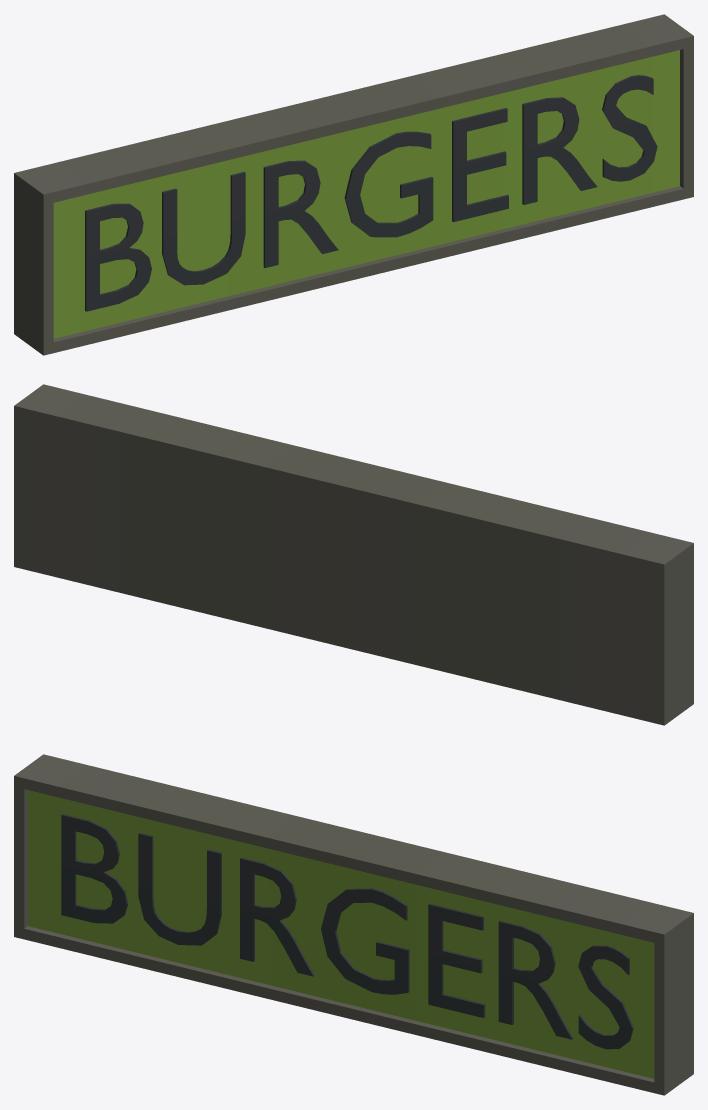
The model's file is Banner_09.fbx.
3 renders of one model, top to bottom at view 1: azimuth 30°, elevation 25°; view 2: azimuth 150°, elevation 25°; view 3: azimuth 330°, elevation 25°, orthographic.
Parts seen in each view (by area): view 1: Banner_09; view 2: Banner_09; view 3: Banner_09.
Part boxes in pixels (x1,y1,x2,y2): Banner_09: [14, 14, 693, 355]; Banner_09: [14, 384, 693, 725]; Banner_09: [14, 754, 693, 1095].
Bounding box in the file's own units: 3.56 × 0.8434 × 0.2801.
